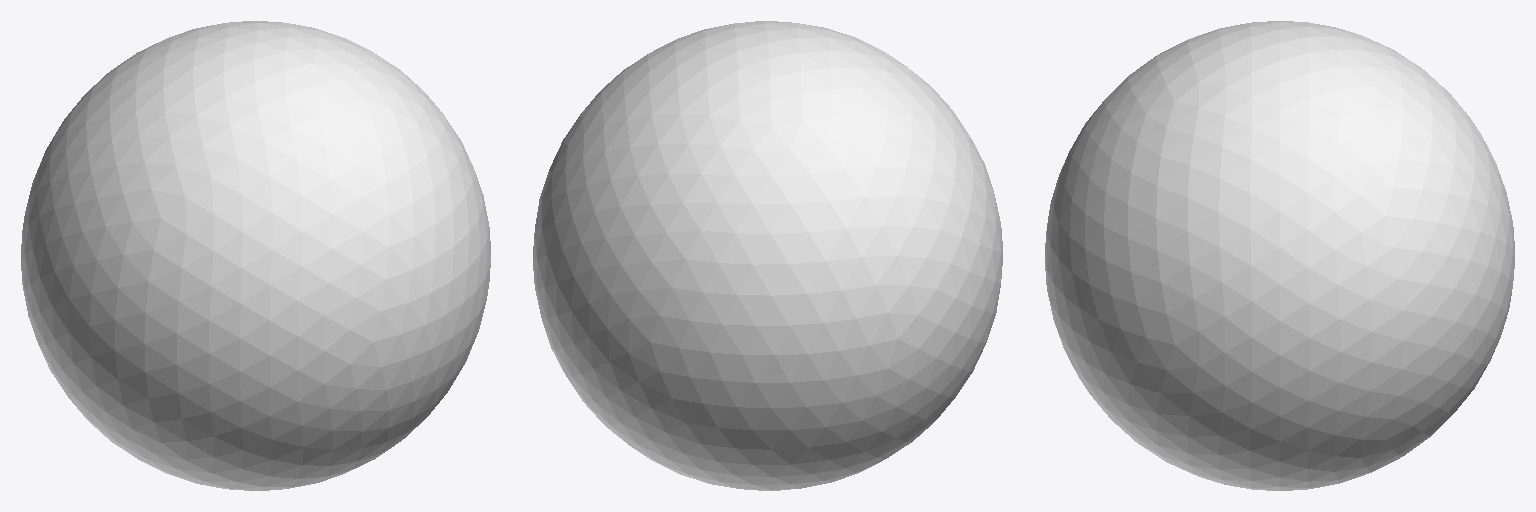
The model's file is geosphere_white_lambert.obj.
3 views of the same model, side by side, from view 1: azimuth 30°, elevation 25°; view 2: azimuth 150°, elevation 25°; view 3: azimuth 270°, elevation 25° (orthographic).
Visible parts, largest first — view 1: GeoSphere001; view 2: GeoSphere001; view 3: GeoSphere001.
Boxes of the visible parts, x1=… form: GeoSphere001: x1=21, y1=21, x2=490, y2=490; GeoSphere001: x1=533, y1=21, x2=1002, y2=490; GeoSphere001: x1=1045, y1=21, x2=1514, y2=490.
Bounding box in the file's own units: 2 × 2 × 2.